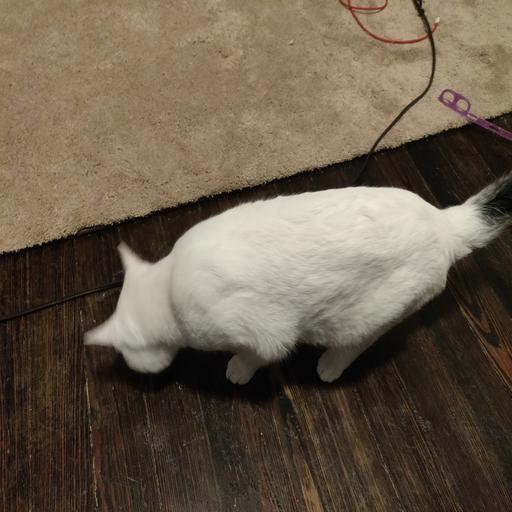cat: (103, 187, 303, 387)
